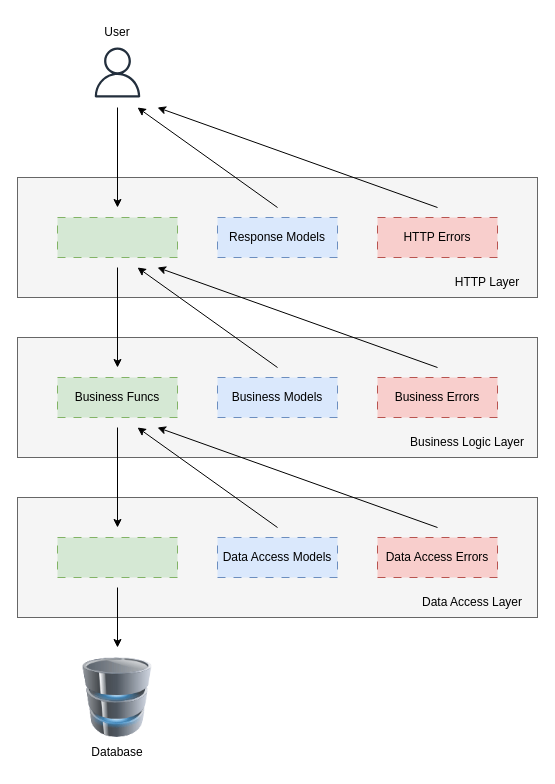
Image size: 555x784. Some labels were removed from this diagram. The centre of each missing label's shape, as x and y in pixels:
Data Access Funcs: the point at 117,557
HTTP Handlers: the point at 117,237
